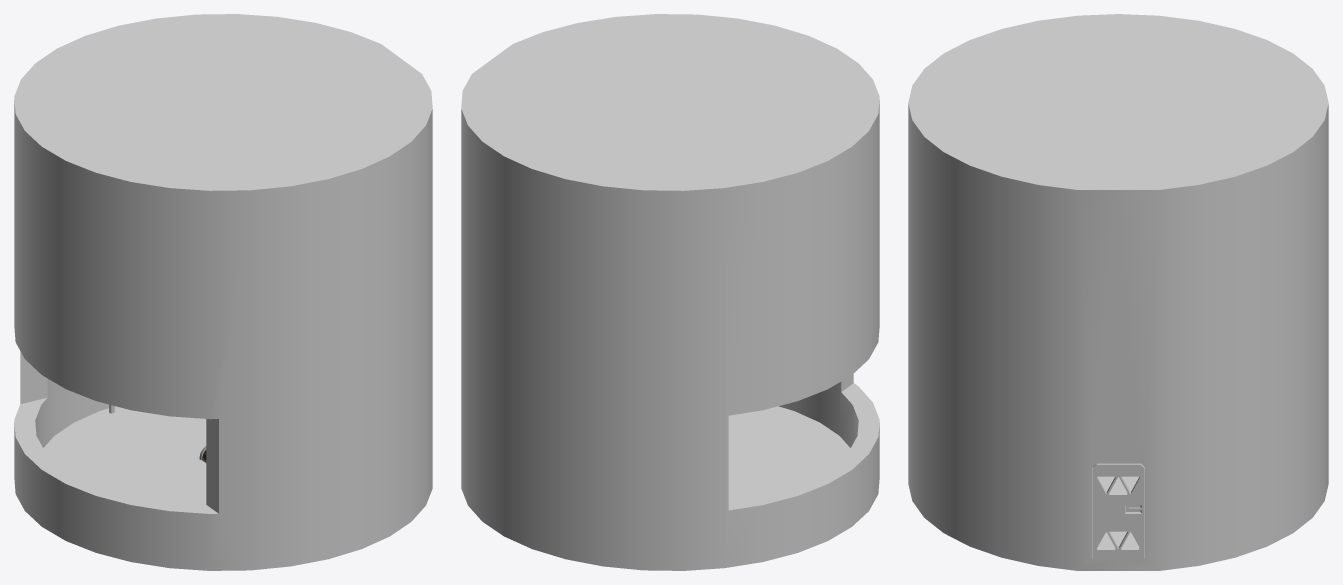
Rendered from Cylindrical_Building_Untextured.fbx.
The picture shows the model from 3 angles, left to right: view 1: azimuth 30°, elevation 25°; view 2: azimuth 150°, elevation 25°; view 3: azimuth 270°, elevation 25°; orthographic projection.
Visible parts, largest first — view 1: Circular Room Outer Shell; view 2: Circular Room Outer Shell; view 3: Circular Room Outer Shell, Door.
Part boxes in pixels (x1=…): Circular Room Outer Shell: x1=14, y1=14, x2=432, y2=570; Circular Room Outer Shell: x1=461, y1=14, x2=879, y2=570; Circular Room Outer Shell: x1=908, y1=14, x2=1328, y2=570; Door: x1=1092, y1=463, x2=1144, y2=558.
Bounding box in the file's own units: 797 × 802 × 802.
